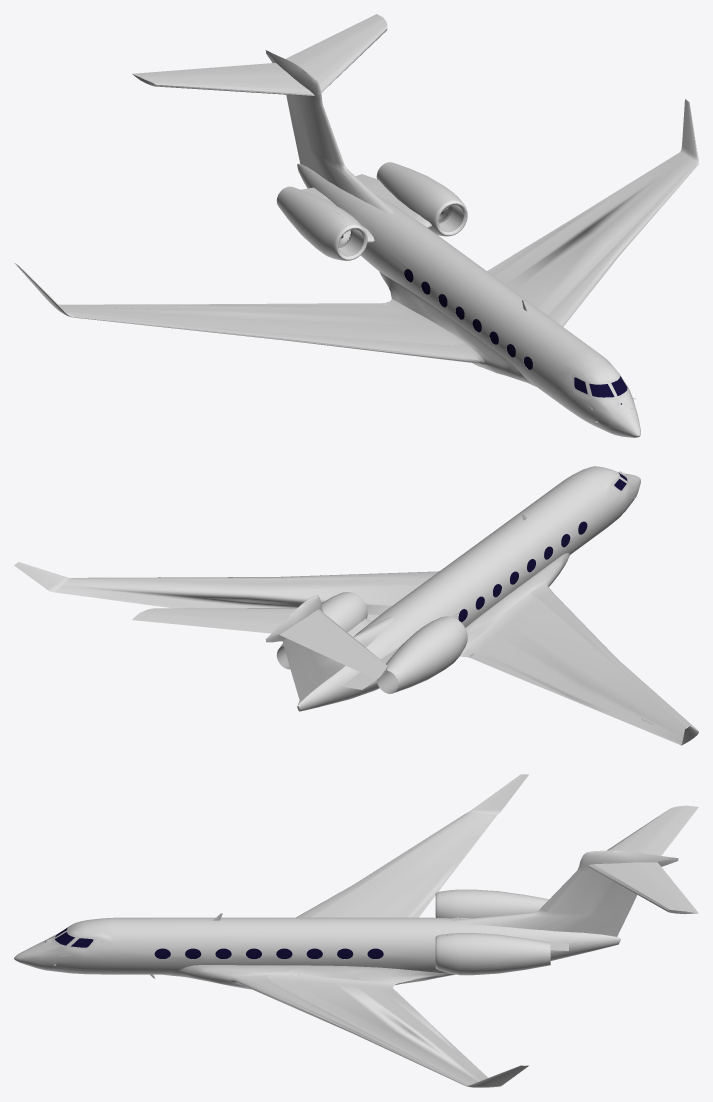
File: business_jet.glb
The picture shows the model from 3 angles, top to bottom: view 1: azimuth 30°, elevation 25°; view 2: azimuth 150°, elevation 25°; view 3: azimuth 270°, elevation 25°; orthographic projection. The views are drawn at different scales.
Visible parts, largest first — view 1: Object_6; view 2: Object_6; view 3: Object_6.
Boxes of the visible parts, <box> form: Object_6: <box>14,14,698,437</box>; Object_6: <box>14,466,698,745</box>; Object_6: <box>14,774,698,1087</box>.
Bounding box in the file's own units: 12.54 × 2.67 × 12.45.
